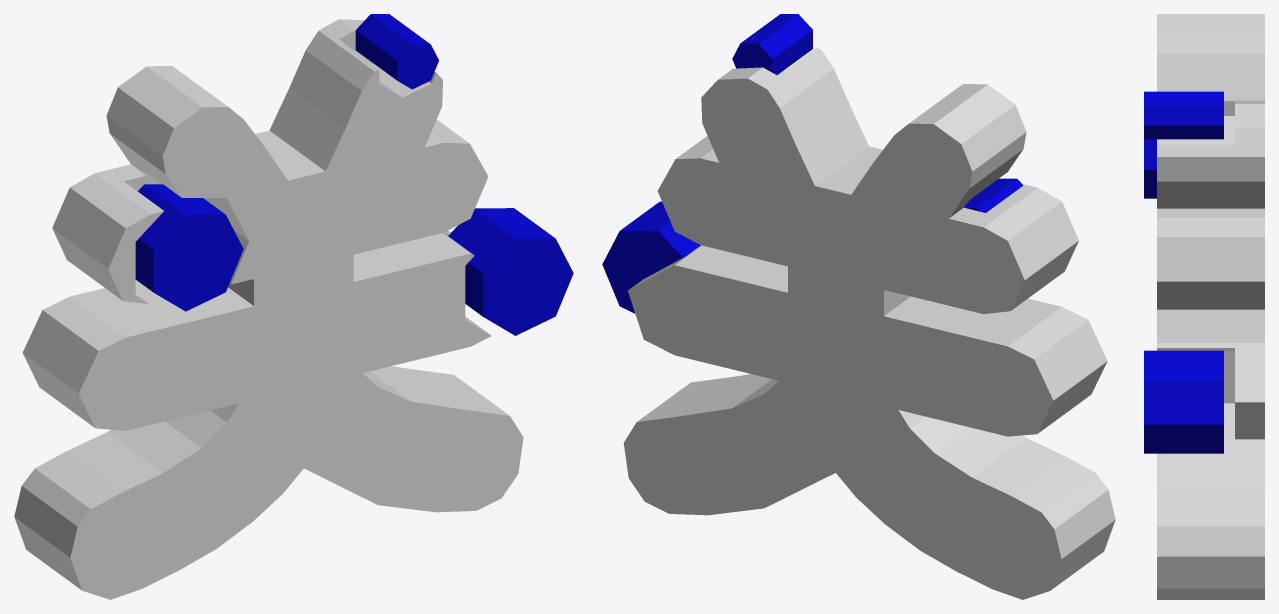
File: Ch_Lite_China_关_01.fbx
3 views of the same model, side by side, from view 1: azimuth 30°, elevation 25°; view 2: azimuth 150°, elevation 25°; view 3: azimuth 270°, elevation 25° (orthographic). The views are drawn at different scales.
Parts seen in each view (by area): view 1: sphere1; view 2: sphere1; view 3: sphere1.
Boxes of the visible parts, bbox=[...] form: sphere1: bbox=[14, 14, 573, 599]; sphere1: bbox=[602, 14, 1115, 599]; sphere1: bbox=[1144, 14, 1264, 599].
Size of the model in its own units: 1.02 by 0.9614 by 0.2242.
